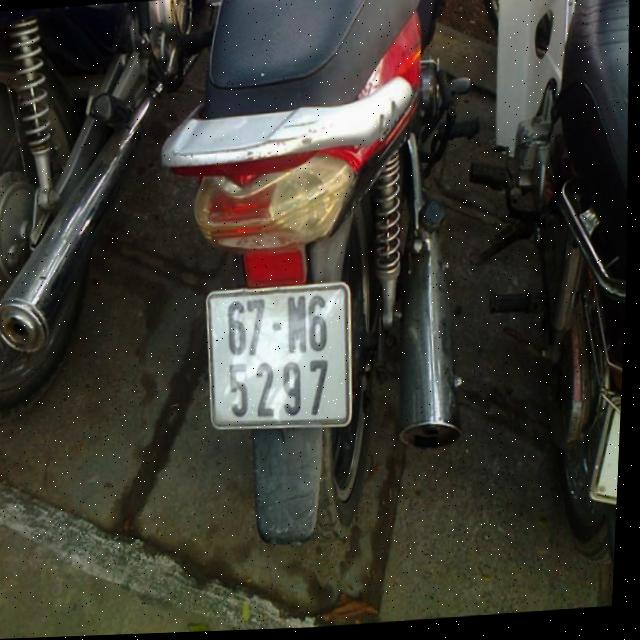motorcycle: (143, 0, 494, 565), (431, 0, 640, 589), (0, 0, 228, 435)
plate: (196, 278, 363, 441)
